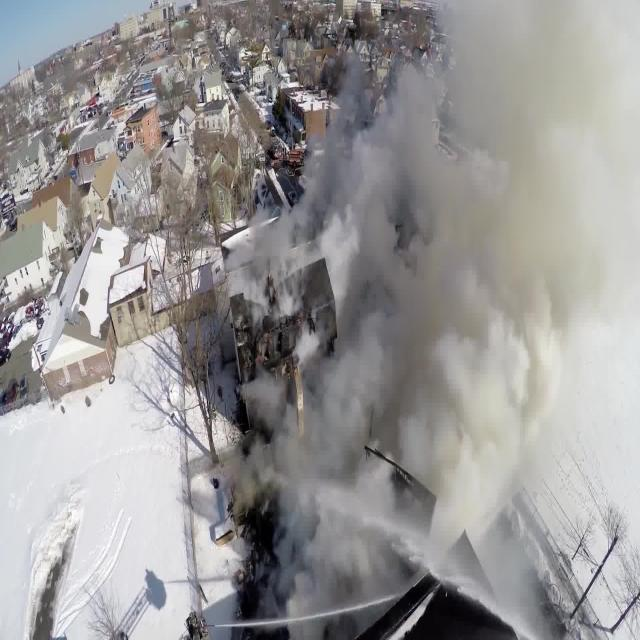Smoke: (245, 6, 640, 602)
